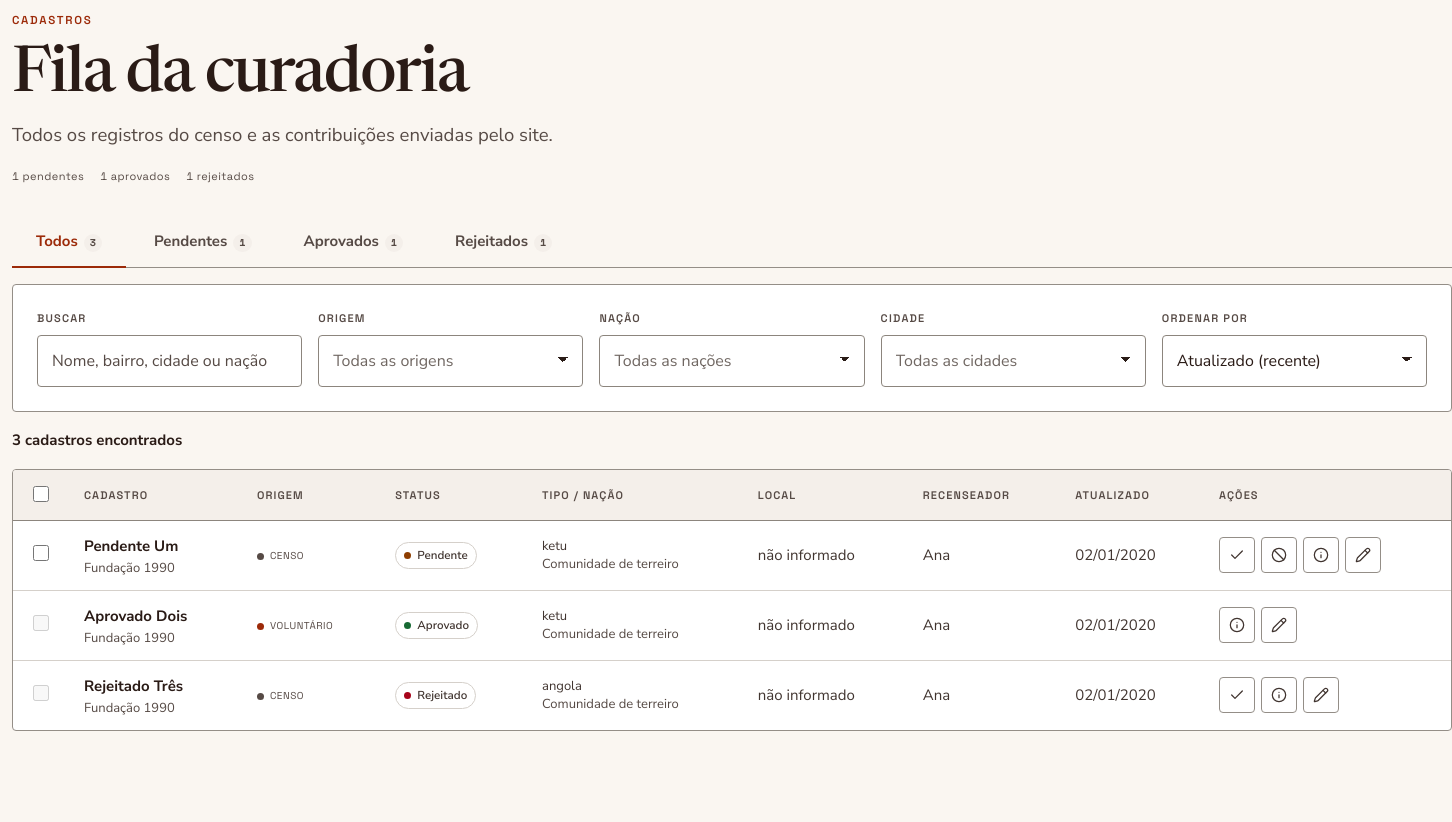
Test: AdminRecords › busca por nome e limpa os filtros
Expected: the link "Pendente Um" is shown, [84, 536, 178, 556]
In the field labelled "Buscar": (170, 361) [37, 335, 302, 387], type "aprovado"
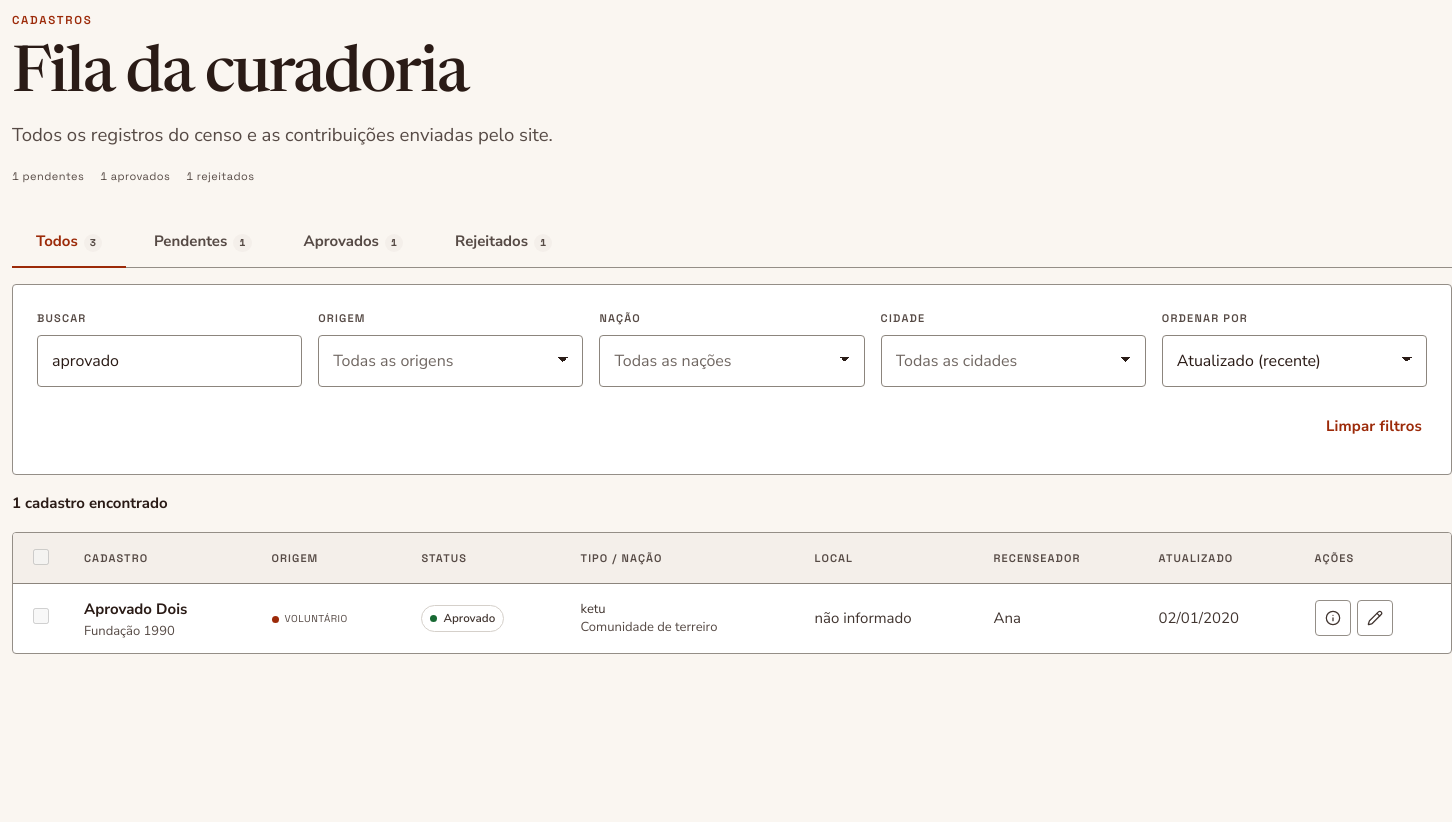
Expected: the link "Aprovado Dois" is shown, [84, 599, 187, 619]
Expected: the link "Pendente Um" is gone
Click the button "Limpar filtros": (1374, 426) [1321, 403, 1427, 450]
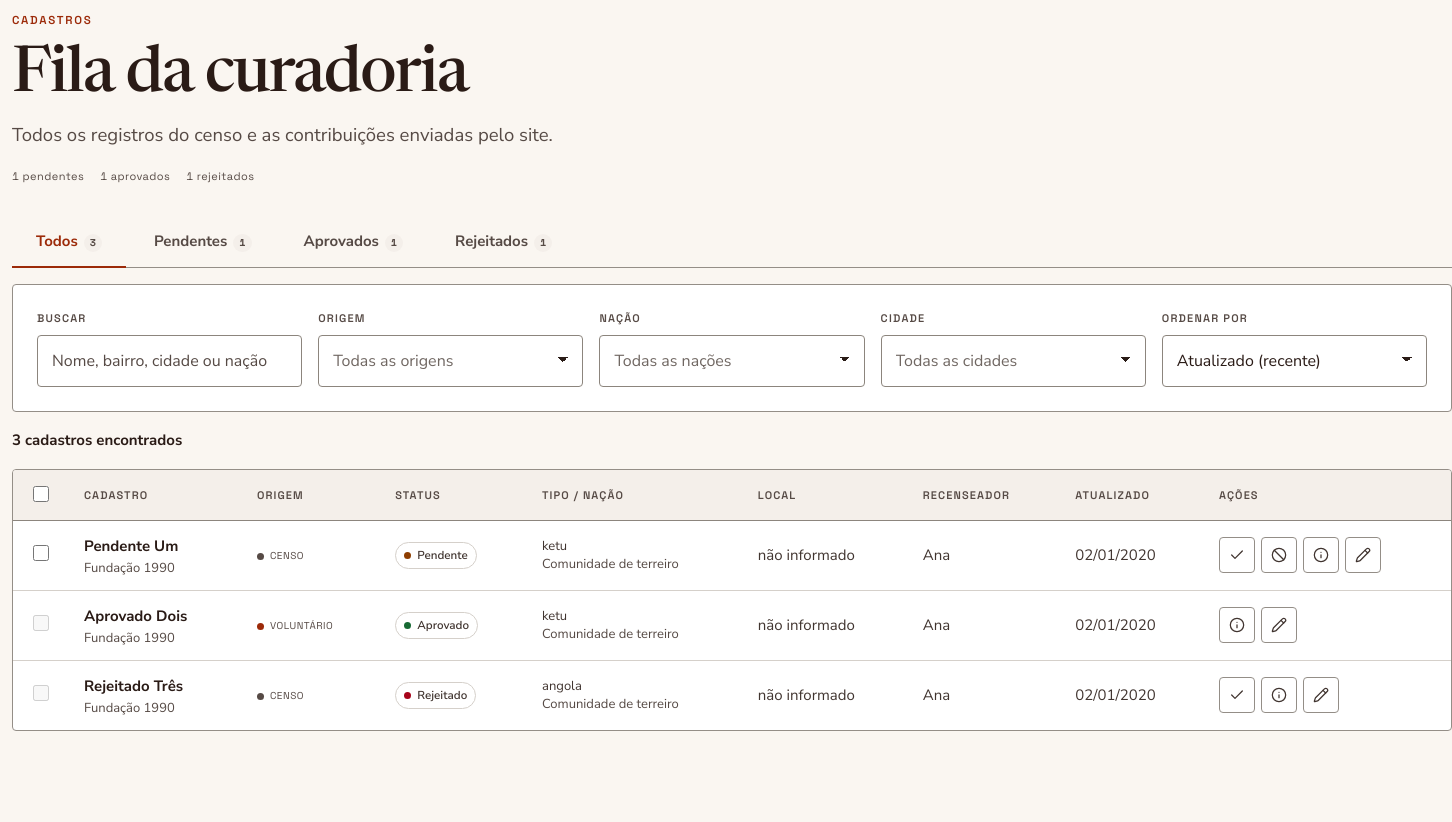
Expected: the link "Pendente Um" is shown, [84, 536, 178, 556]
